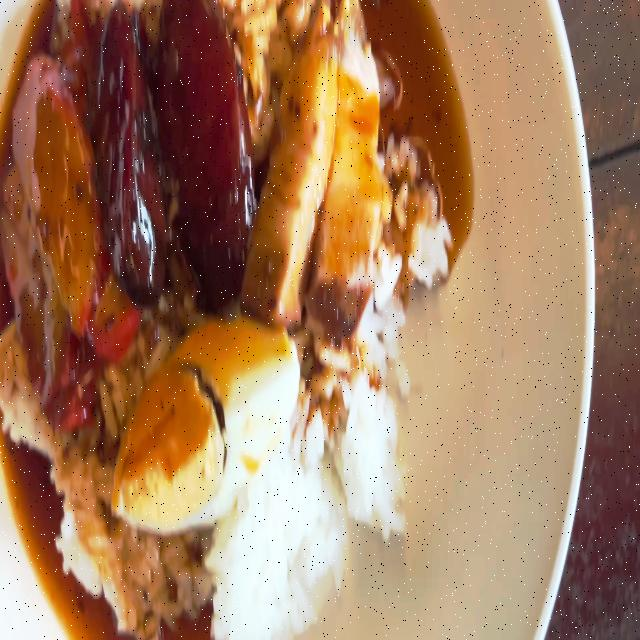boiled_egg: (115, 320, 292, 534)
chainese_sausage: (98, 0, 251, 309), (172, 0, 256, 309), (93, 3, 167, 289)
crispy_pork: (250, 0, 386, 347), (254, 16, 338, 312), (320, 0, 382, 340)
red_pork: (0, 35, 112, 420), (21, 53, 105, 313)
red_pork_and_crispy_pork: (0, 0, 454, 640)
rice: (216, 447, 316, 636), (45, 434, 124, 628), (384, 128, 450, 330), (321, 378, 396, 528)
